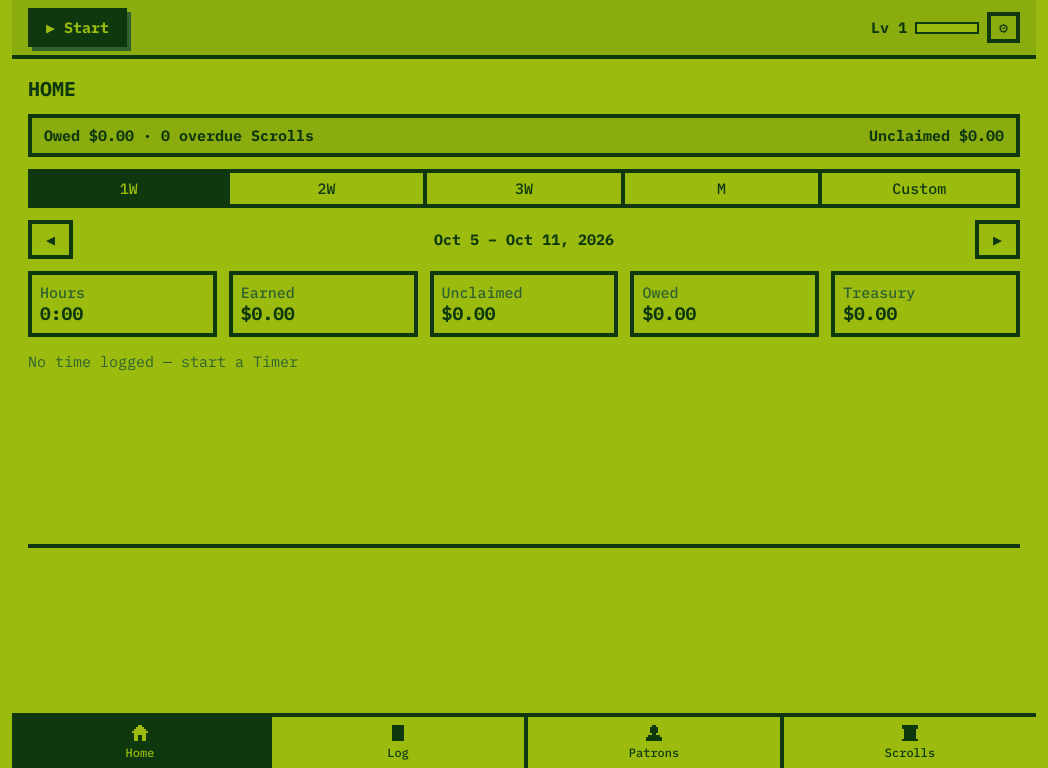
Log › filters by Patron
Click the tab "Log" at (396, 742), box x1=268 y1=717 x2=524 y2=767
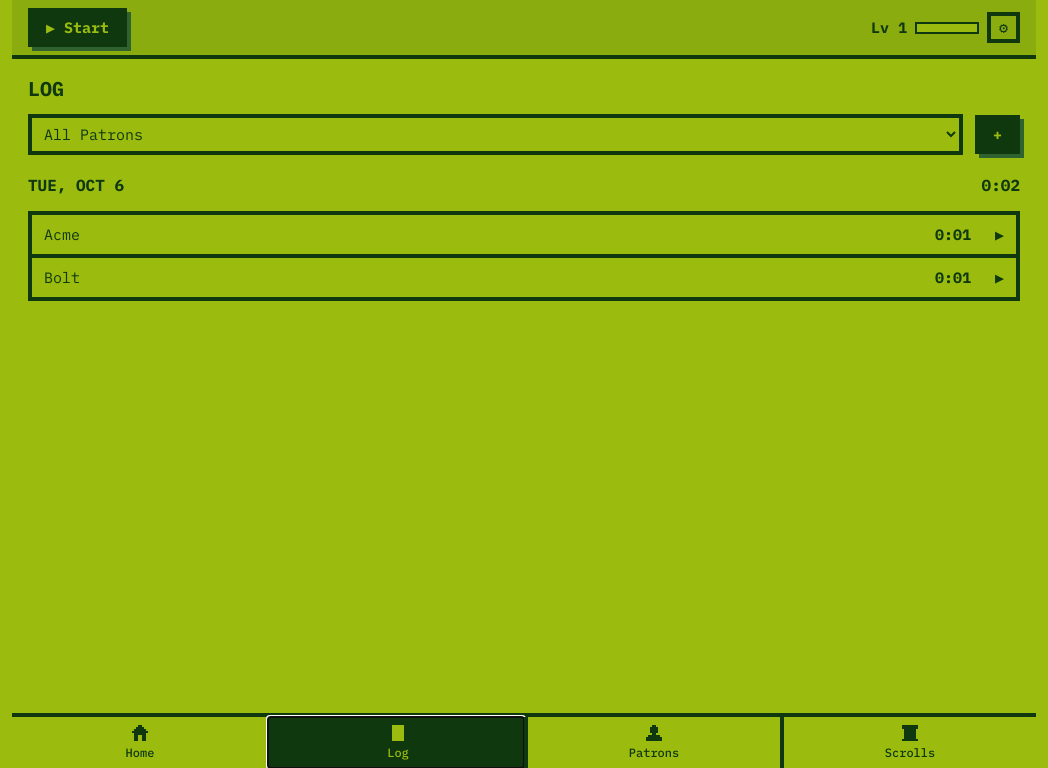
Check: the number of list items is 2, box x1=28 y1=211 x2=1020 y2=258; x1=28 y1=254 x2=1020 y2=301
Select "Bolt" in the dropdown named "Patron filter" at (496, 134), box x1=28 y1=114 x2=963 y2=155
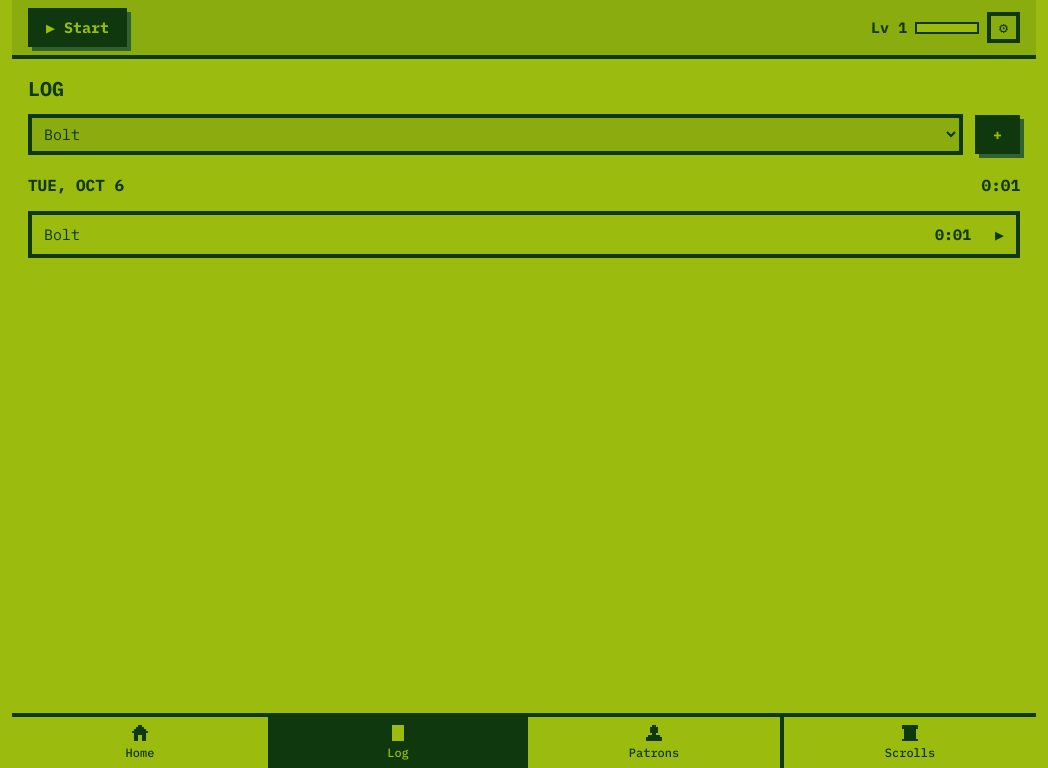
Check: the list item shows "Bolt", box x1=32 y1=215 x2=983 y2=254
Check: the number of list items is 1, box x1=28 y1=211 x2=1020 y2=258
